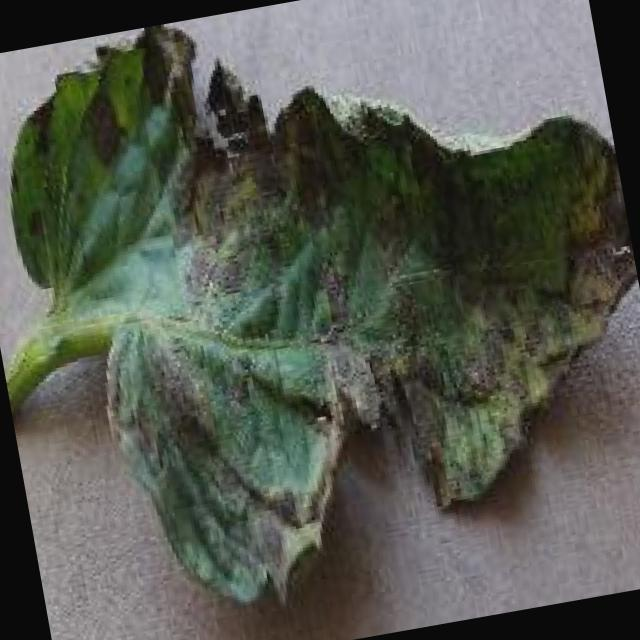leaf blight: (3, 21, 637, 605)
